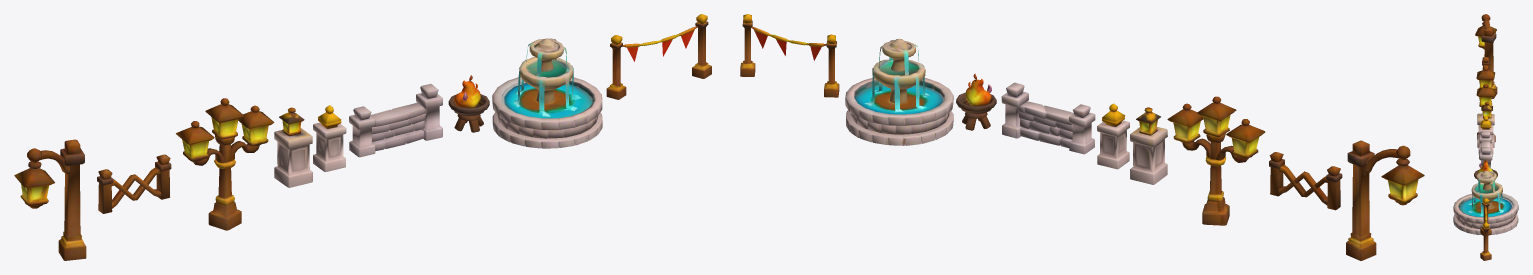
File: environment_pieces.glb
3 views of the same model, side by side, from view 1: azimuth 30°, elevation 25°; view 2: azimuth 150°, elevation 25°; view 3: azimuth 270°, elevation 25° (orthographic). The views are drawn at different scales.
Parts seen in each view (by area): view 1: Fountain_Tiered, LampPost_Triple, Wall_StonePosts, LampPost_Single, Pillar_Lantern, Bunting_Posts, Fence_WoodX, Pillar_GoldCap, Brazier_Fire; view 2: Fountain_Tiered, LampPost_Triple, LampPost_Single, Wall_StonePosts, Pillar_Lantern, Fence_WoodX, Bunting_Posts, Pillar_GoldCap, Brazier_Fire; view 3: Fountain_Tiered, LampPost_Single, LampPost_Triple, Bunting_Posts, Wall_StonePosts, Pillar_Lantern, Pillar_GoldCap, Brazier_Fire, Fence_WoodX.
Part boxes in pixels (x1=…): Fountain_Tiered: x1=492, y1=38, x2=602, y2=148; LampPost_Triple: x1=176, y1=98, x2=274, y2=230; Wall_StonePosts: x1=349, y1=83, x2=442, y2=157; LampPost_Single: x1=14, y1=139, x2=86, y2=260; Pillar_Lantern: x1=274, y1=107, x2=312, y2=187; Bunting_Posts: x1=606, y1=14, x2=711, y2=99; Fence_WoodX: x1=97, y1=154, x2=171, y2=213; Pillar_GoldCap: x1=313, y1=105, x2=346, y2=171; Brazier_Fire: x1=448, y1=75, x2=489, y2=132; Fountain_Tiered: x1=845, y1=38, x2=953, y2=145; LampPost_Triple: x1=1167, y1=96, x2=1265, y2=225; LampPost_Single: x1=1346, y1=140, x2=1424, y2=260; Wall_StonePosts: x1=1001, y1=82, x2=1095, y2=154; Pillar_Lantern: x1=1130, y1=107, x2=1167, y2=184; Fence_WoodX: x1=1269, y1=152, x2=1342, y2=210; Bunting_Posts: x1=740, y1=14, x2=839, y2=97; Pillar_GoldCap: x1=1097, y1=103, x2=1129, y2=169; Brazier_Fire: x1=956, y1=73, x2=996, y2=130; Fountain_Tiered: x1=1453, y1=170, x2=1518, y2=234; LampPost_Single: x1=1475, y1=14, x2=1497, y2=98; LampPost_Triple: x1=1476, y1=66, x2=1495, y2=142; Bunting_Posts: x1=1480, y1=198, x2=1491, y2=260; Wall_StonePosts: x1=1479, y1=131, x2=1492, y2=169; Pillar_Lantern: x1=1477, y1=102, x2=1494, y2=147; Pillar_GoldCap: x1=1478, y1=116, x2=1493, y2=153; Brazier_Fire: x1=1474, y1=159, x2=1497, y2=178; Fence_WoodX: x1=1482, y1=57, x2=1489, y2=69.
Bounding box in the file's own units: 54.79 × 9.5 × 7.63.
1 material, 1 textured.
